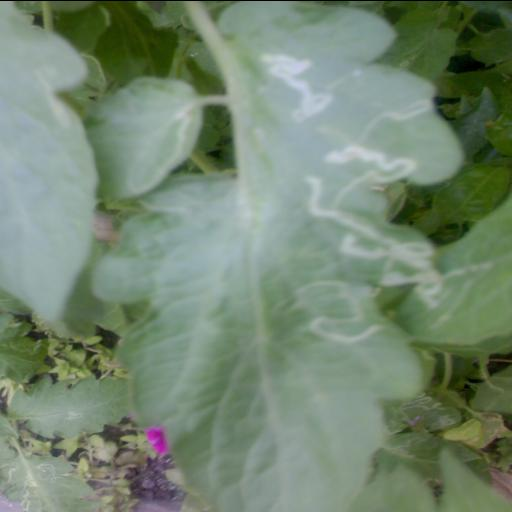Leaf Miner: (88, 0, 460, 512)
